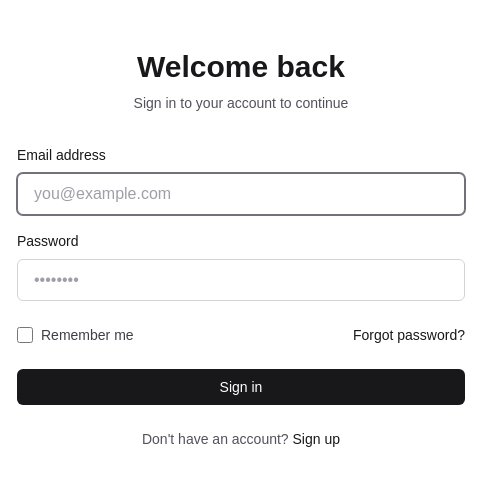
Scenario: Login Page › should show error when password is empty
In the field labelled "Email address": (241, 194) [17,173,465,215], type "test@example.com"
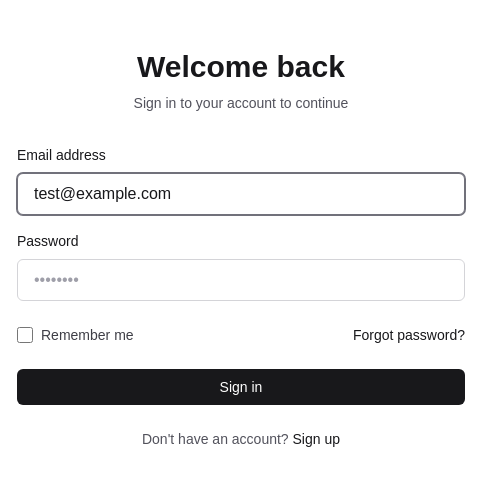
Click the button "Sign in": (241, 387) [17,369,465,405]
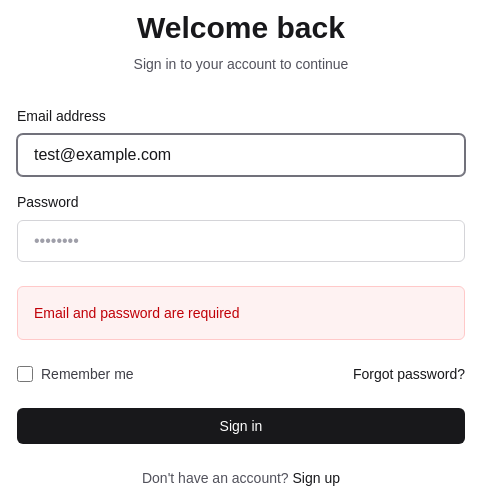
Expected: the text "Email and password are required" is shown, [34,305,240,321]
